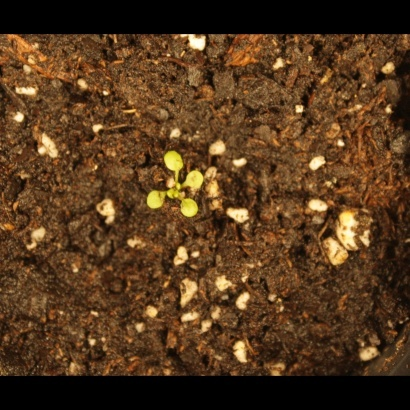leaf: (144, 188, 168, 211), (163, 149, 186, 172), (178, 198, 201, 221), (184, 170, 207, 193)
